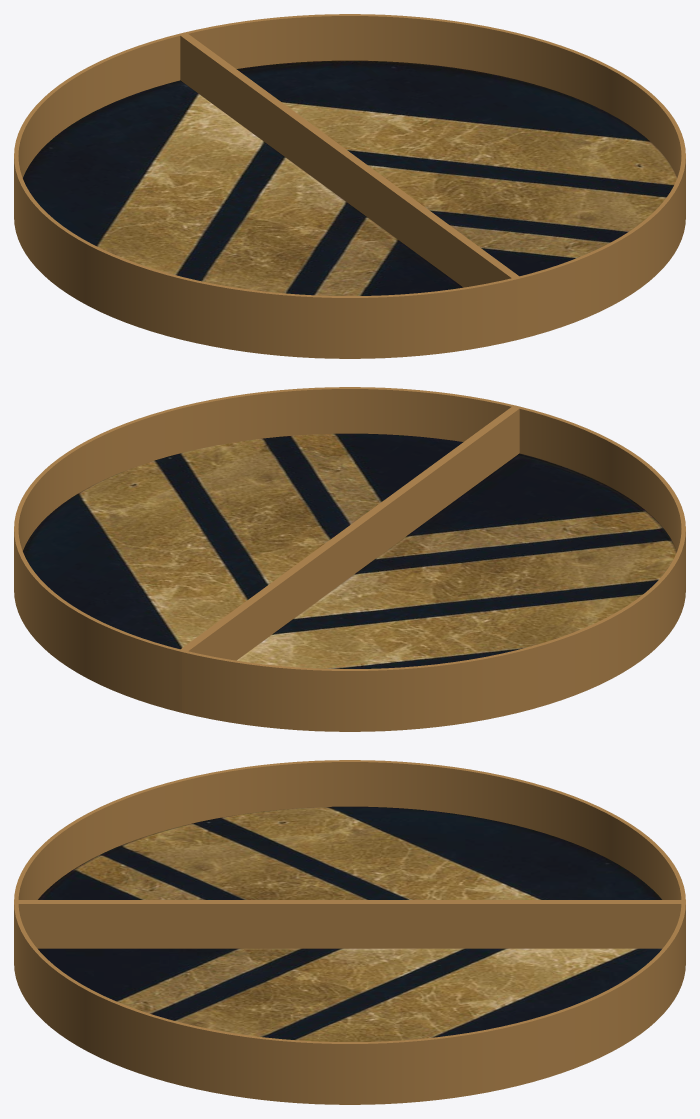
Rendered from Chevron_GlassValetTray.glb.
3 renders of one model, top to bottom at view 1: azimuth 30°, elevation 25°; view 2: azimuth 150°, elevation 25°; view 3: azimuth 270°, elevation 25°, orthographic.
Visible parts, largest first — view 1: model 10, model 11; view 2: model 10, model 11; view 3: model 11, model 10.
Boxes of the visible parts, x1,y1,x2,y2 form: model 10: [14, 33, 517, 358]; model 11: [182, 14, 685, 339]; model 10: [182, 406, 685, 731]; model 11: [14, 387, 517, 712]; model 11: [14, 902, 685, 1104]; model 10: [14, 760, 685, 901].
Bounding box in the file's own units: 0.3 × 0.03 × 0.3.
Materials: 2 (1 with a texture image).
